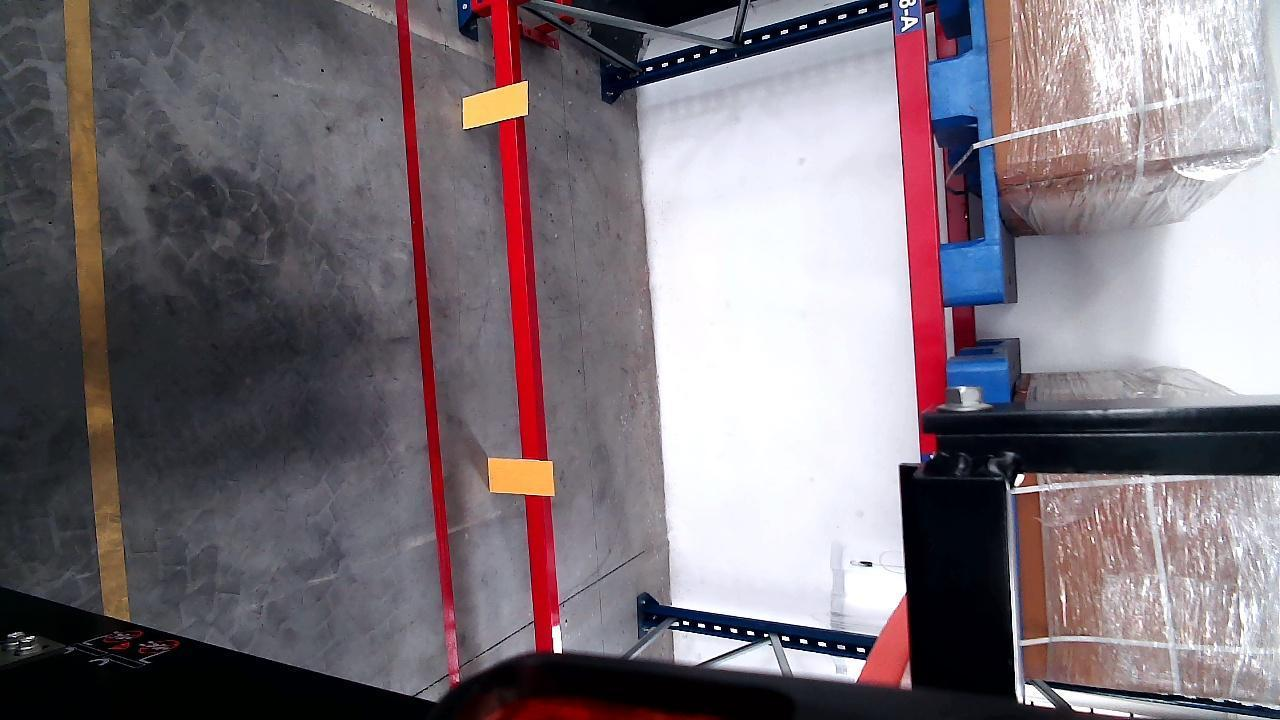h_rack: (493, 7, 558, 657), (894, 0, 945, 446)
orange_strip: (463, 82, 529, 129), (487, 457, 554, 495)
red_line: (394, 0, 466, 688)
small_pallet: (920, 0, 1009, 304)
yellow_line: (63, 0, 132, 629)
